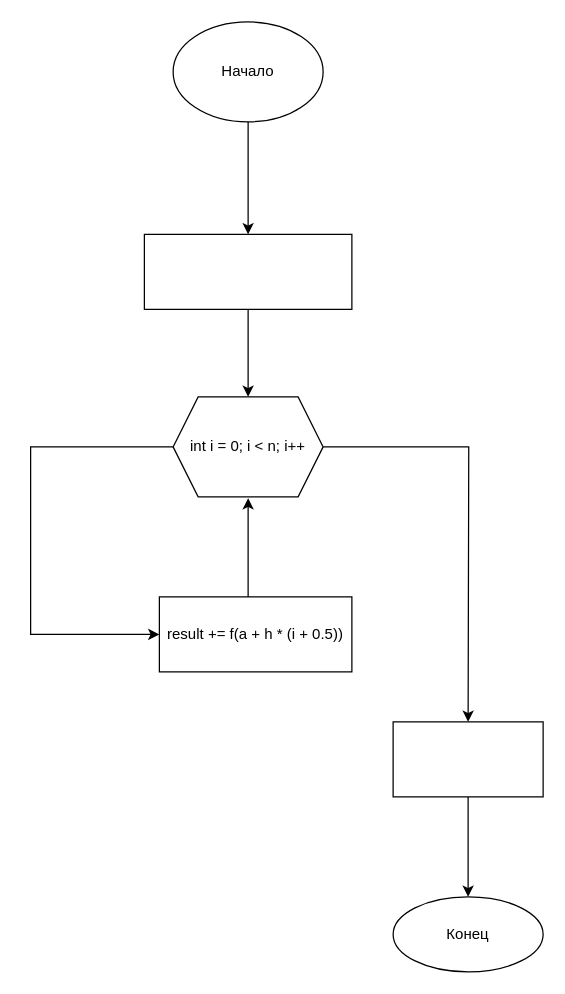
The diagram is 565 pixels wide and 994 high, and some of its shapes have lost their labels. Here are the shapes that lost their labels. From the top down, the centre of each, then its label:
At (247,271): "double h = (b - a) * 1.0 / n double result = 0.0".
At (467,759): "result *= h return result".
